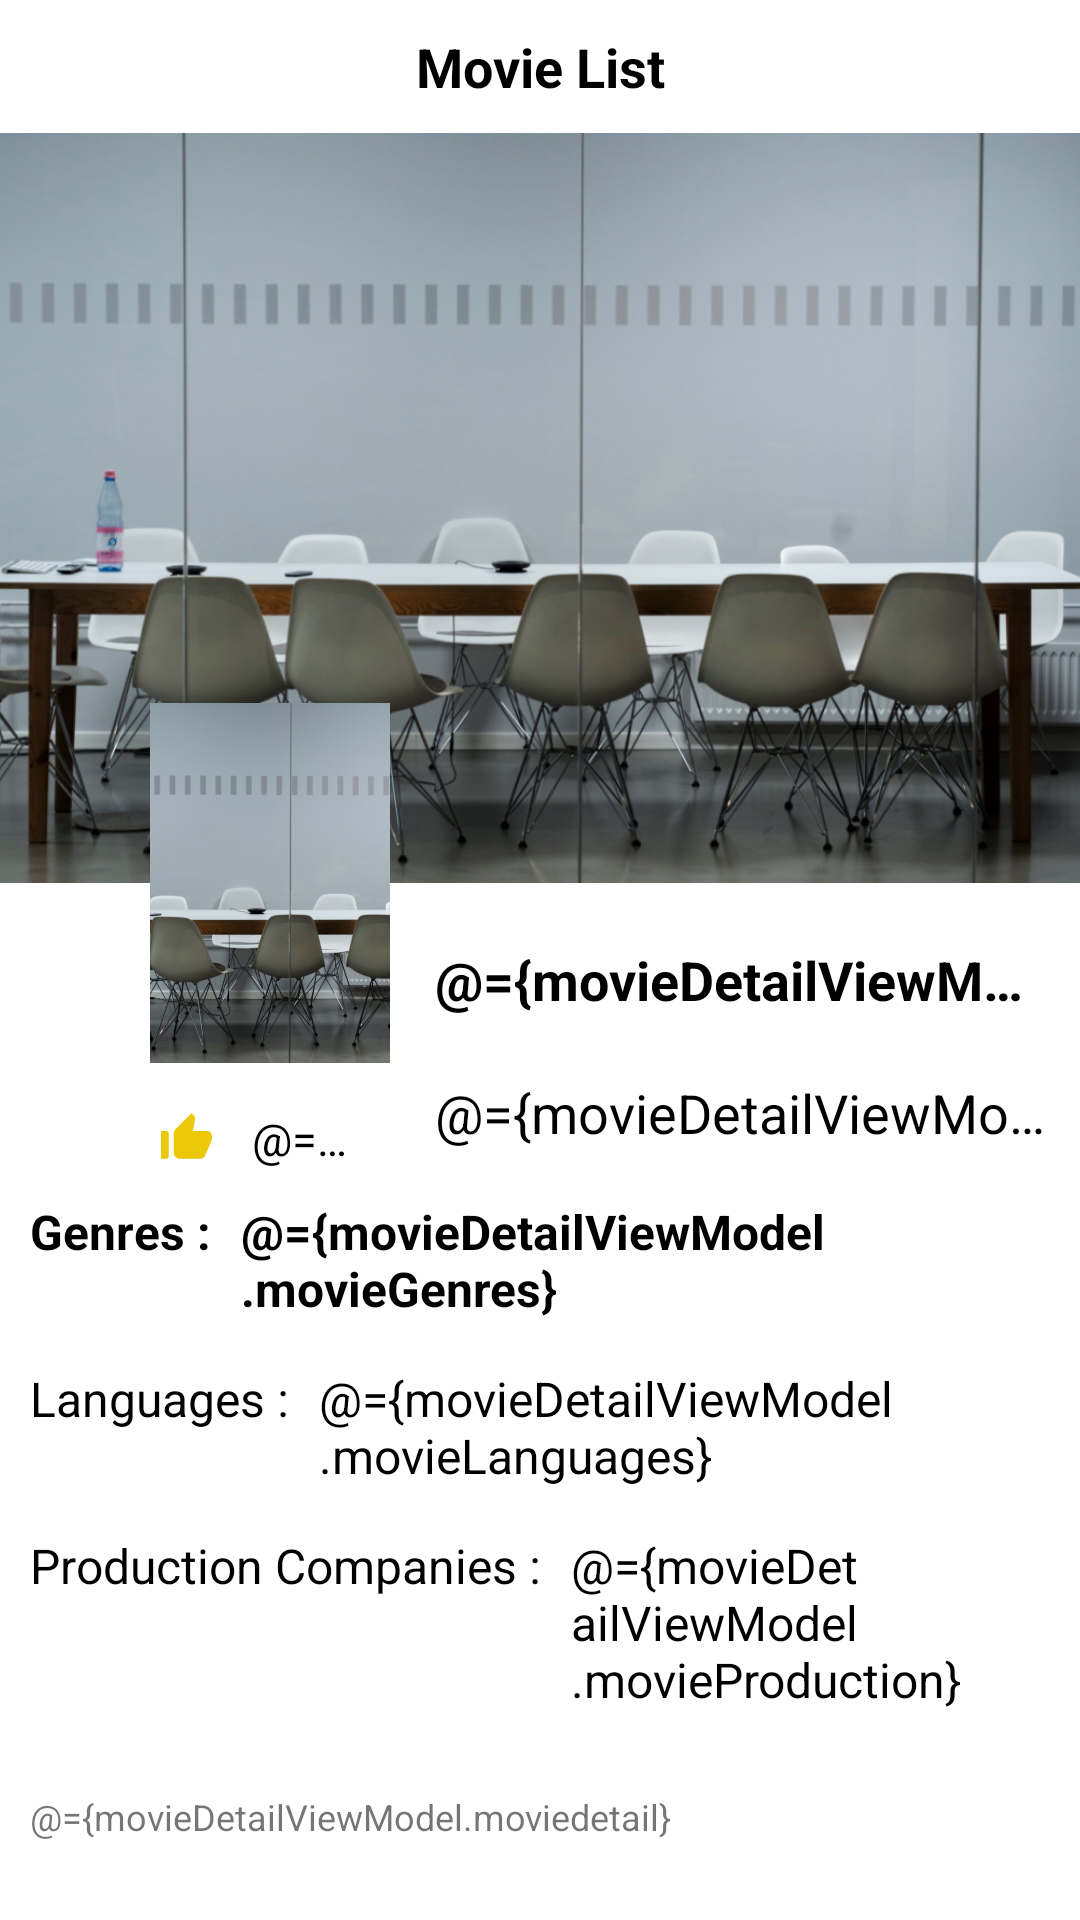

Icon bounding boxes for this 1080px x 1920px phone screenshot, format bbox(x1, y1, x2, y2):
thumb up: bbox(161, 1113, 212, 1159)
